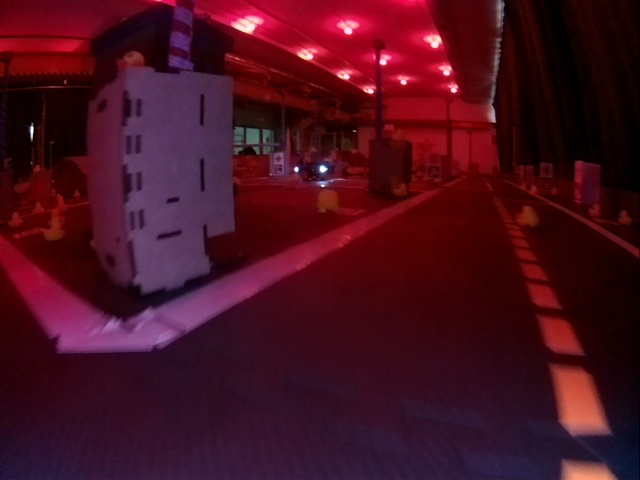Duckie: (117, 52, 143, 70), (517, 205, 538, 227), (43, 218, 63, 240), (318, 189, 337, 212), (619, 210, 632, 224), (590, 203, 600, 216)
Duckiebot: (294, 158, 335, 181)
